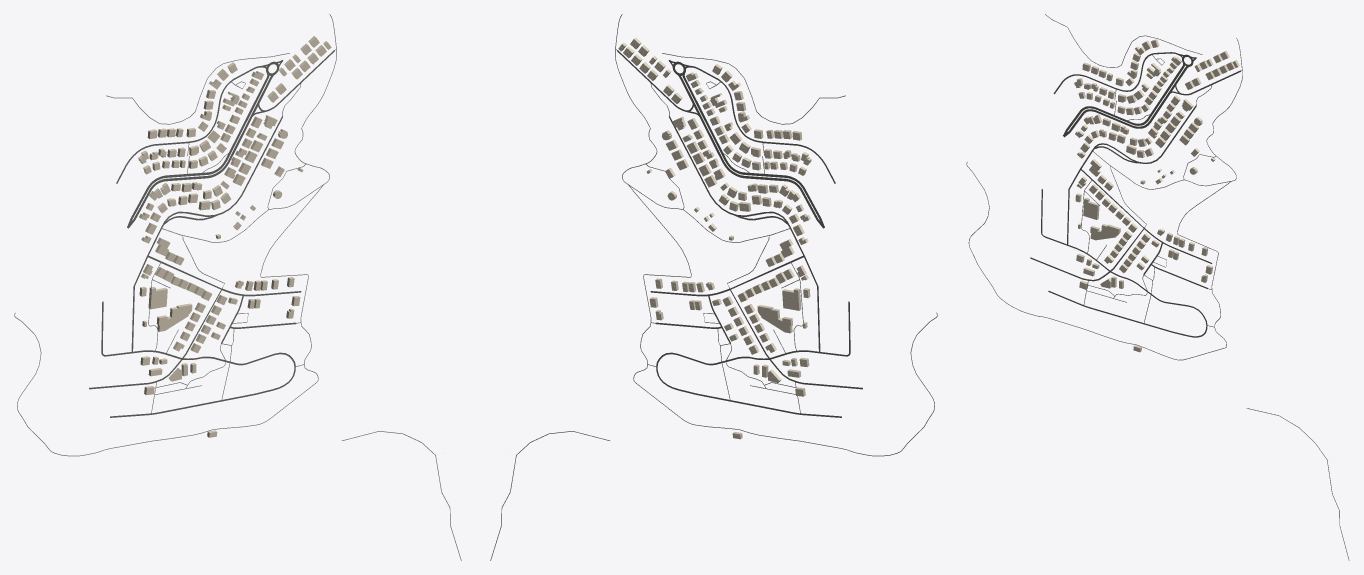
Rendered from historic-palestine-08_27_3501_3219.glb.
The picture shows the model from 3 angles, left to right: view 1: azimuth 30°, elevation 25°; view 2: azimuth 150°, elevation 25°; view 3: azimuth 330°, elevation 25°; orthographic projection. The views are drawn at different scales.
Parts seen in each view (by area): view 1: Road הדס, Road .032, Road ערבי הנחל.001, Road ערבי הנחל, Building_.126; view 2: Road הדס, Road .032, Road ערבי הנחל.001, Road ערבי הנחל, Building_.126; view 3: Road הדס, Road .032, Road ערבי הנחל, Road ערבי הנחל.001.
Boxes of the visible parts, left/top/right/bottom form: Road הדס: left=101, top=301, right=295, bottom=417; Road .032: left=14, top=185, right=323, bottom=456; Road ערבי הנחל.001: left=127, top=73, right=274, bottom=228; Road ערבי הנחל: left=127, top=73, right=269, bottom=227; Building_.126: left=156, top=303, right=192, bottom=331; Road הדס: left=656, top=301, right=850, bottom=417; Road .032: left=628, top=185, right=937, bottom=456; Road ערבי הנחל.001: left=677, top=73, right=824, bottom=228; Road ערבי הנחל: left=682, top=73, right=824, bottom=227; Building_.126: left=757, top=305, right=792, bottom=333; Road הדס: left=1041, top=189, right=1207, bottom=337; Road .032: left=966, top=162, right=1230, bottom=360; Road ערבי הנחל: left=1063, top=62, right=1184, bottom=136; Road ערבי הנחל.001: left=1064, top=65, right=1189, bottom=137.
Bounding box in the file's own units: 948 × 1173 × 9.09.
